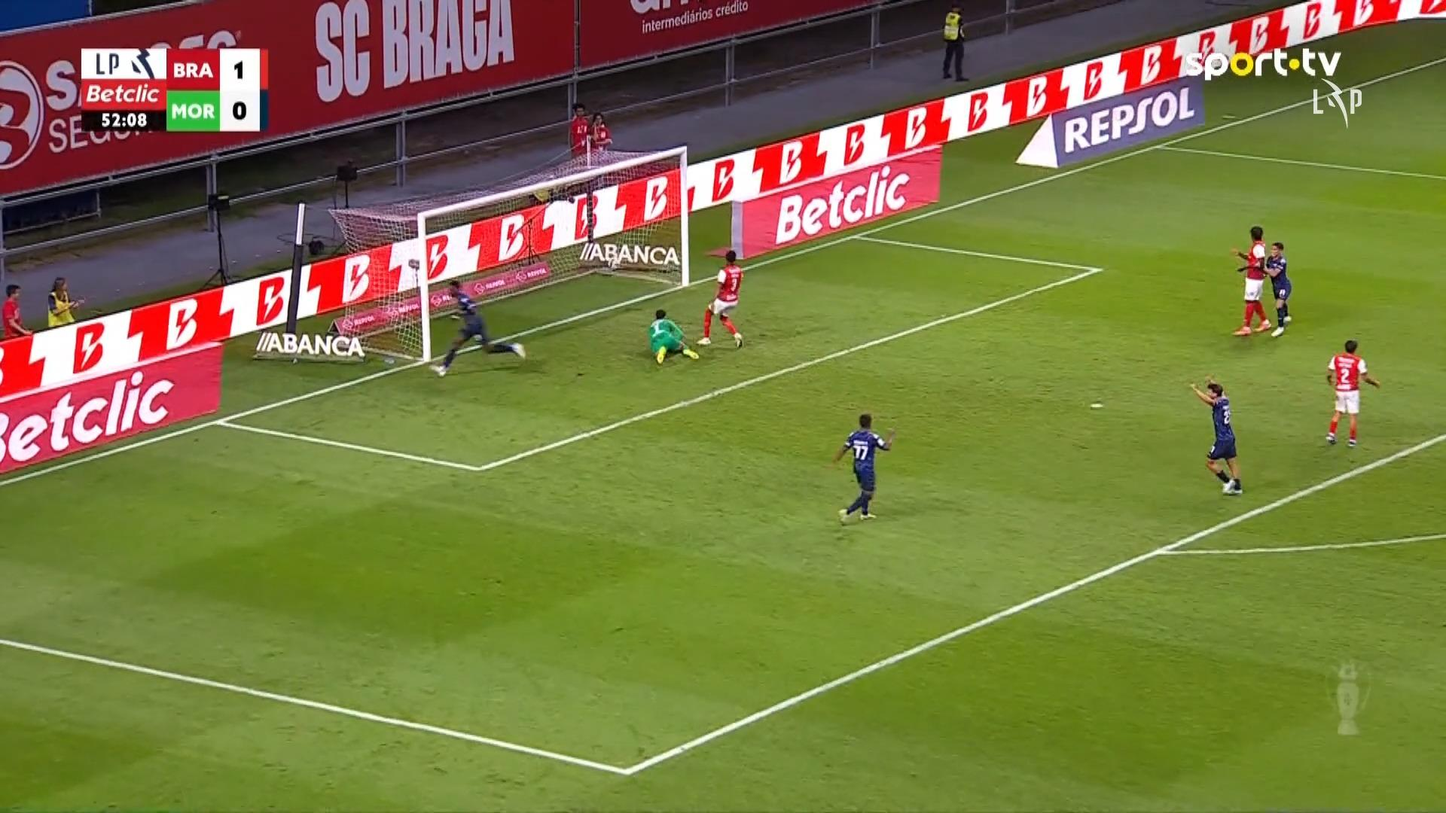ball: (407, 258, 419, 269)
goalkeeper: (647, 307, 699, 366)
player: (429, 278, 526, 377), (831, 412, 895, 525), (1188, 375, 1243, 495), (1324, 338, 1379, 446), (695, 248, 745, 349), (1229, 224, 1271, 336), (1262, 240, 1292, 337)
